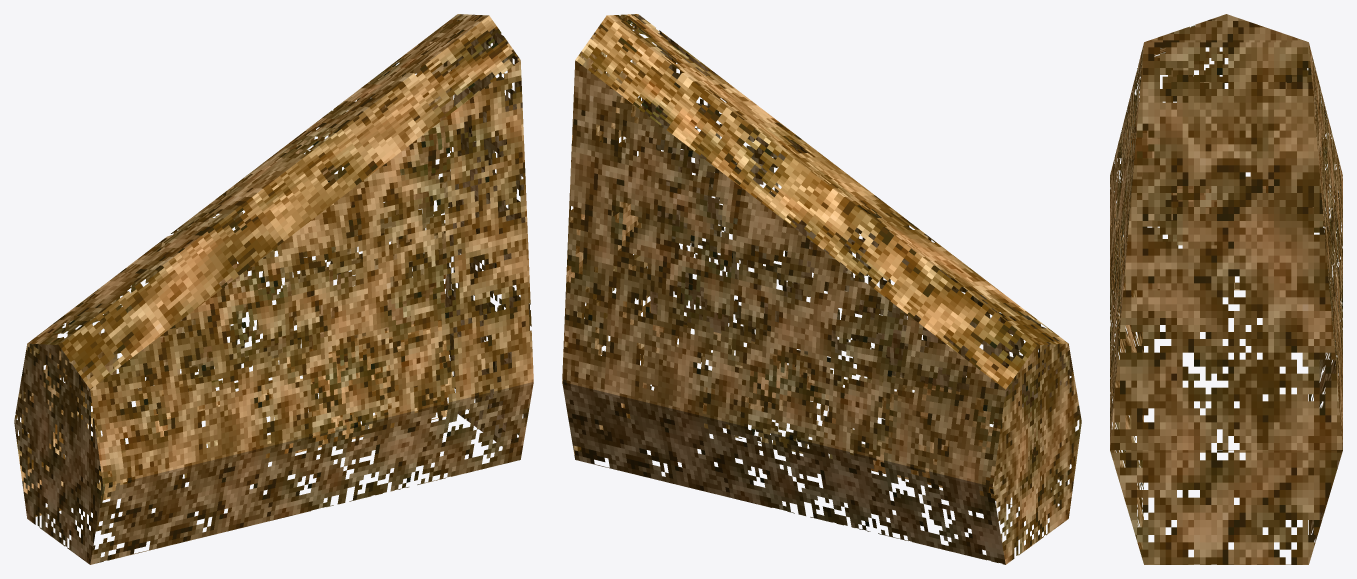
File: bush_connector_straight_autumn.glb
3 views of the same model, side by side, from view 1: azimuth 30°, elevation 25°; view 2: azimuth 150°, elevation 25°; view 3: azimuth 270°, elevation 25° (orthographic). The views are drawn at different scales.
Visible parts, largest first — view 1: bush_connector_straight_autumn; view 2: bush_connector_straight_autumn; view 3: bush_connector_straight_autumn.
Boxes of the visible parts, left/top/right/bottom form: bush_connector_straight_autumn: left=14, top=14, right=533, bottom=564; bush_connector_straight_autumn: left=562, top=14, right=1081, bottom=564; bush_connector_straight_autumn: left=1110, top=14, right=1342, bottom=564.
Size of the model in its own units: 2.01 by 1.88 by 0.7191.
Materials: 1 (1 with a texture image).
